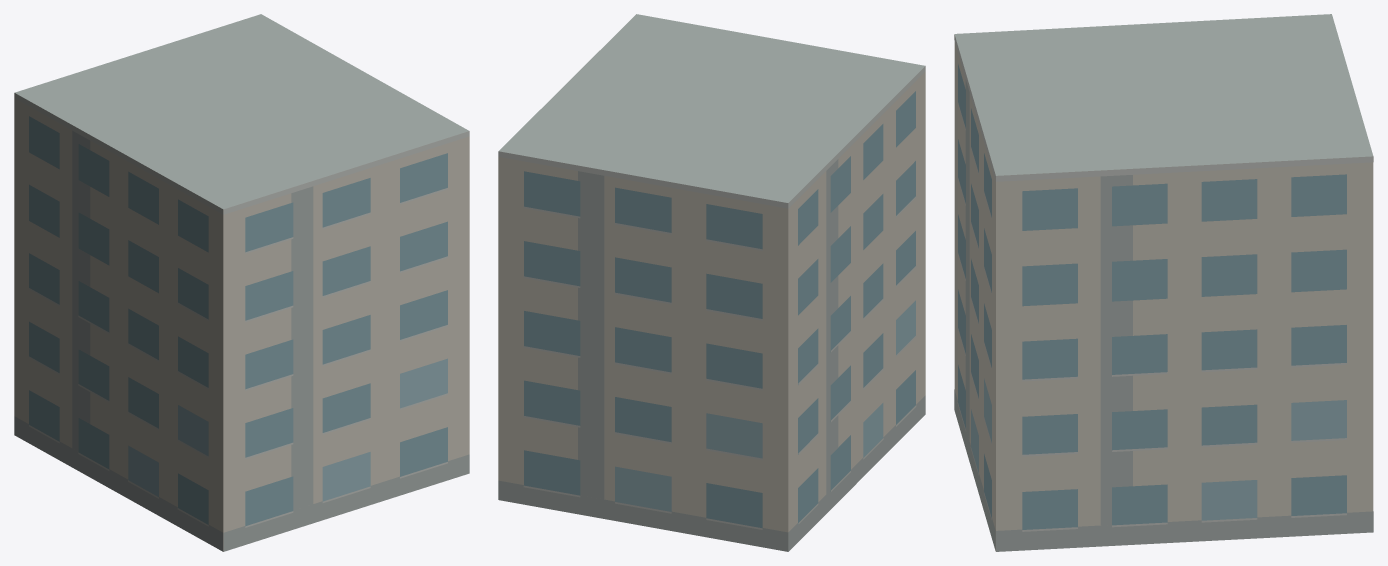
The model's file is survey-upis-32853208.glb.
3 renders of one model, left to right at view 1: azimuth 30°, elevation 25°; view 2: azimuth 150°, elevation 25°; view 3: azimuth 270°, elevation 25°, orthographic. The views are drawn at different scales.
Visible parts, largest first — view 1: survey-upis-32853208.tmp; view 2: survey-upis-32853208.tmp; view 3: survey-upis-32853208.tmp.
Boxes of the visible parts, bbox=[...] form: survey-upis-32853208.tmp: bbox=[14, 14, 469, 551]; survey-upis-32853208.tmp: bbox=[498, 14, 925, 551]; survey-upis-32853208.tmp: bbox=[954, 14, 1373, 551].
Bounding box in the file's own units: 14.09 × 15.25 × 15.41.
